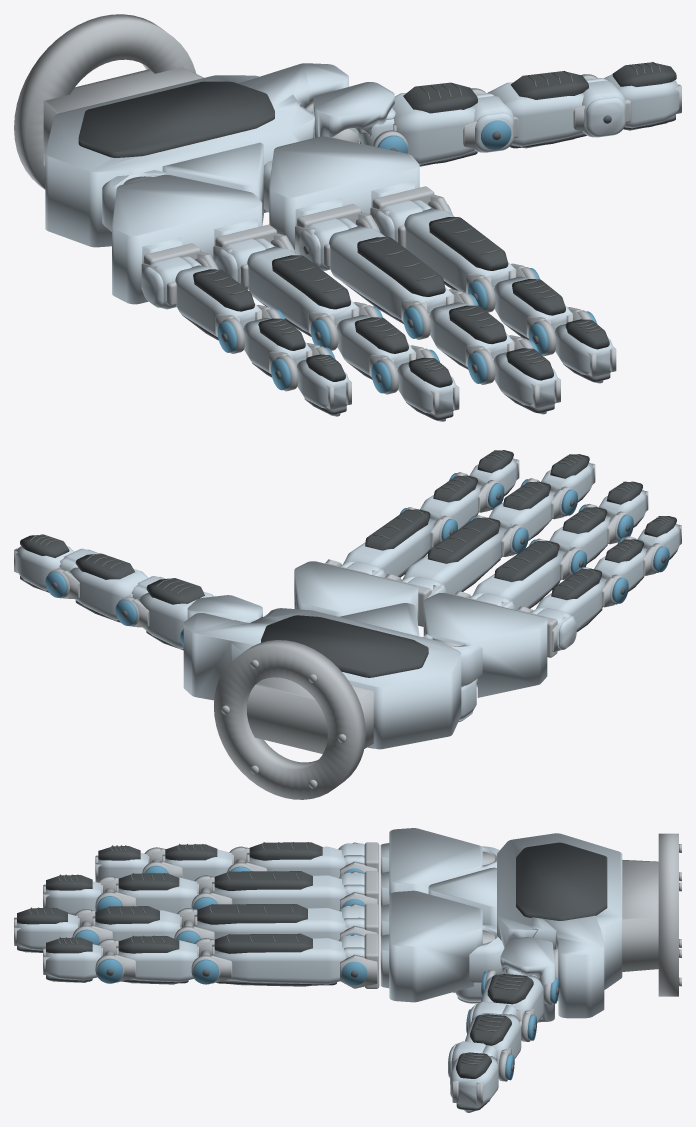
File: lyra10.glb
The picture shows the model from 3 angles, top to bottom: view 1: azimuth 30°, elevation 25°; view 2: azimuth 150°, elevation 25°; view 3: azimuth 270°, elevation 25°; orthographic projection. The views are drawn at different scales.
Visible parts, largest first — view 1: visual__central_palm__0, visual__central_palm__1, visual__palm_ulnar_fan_link__1, visual__central_palm__3, visual__palm_radial_fan_link__1, visual__thumb_proximal__0, visual__thumb_metacarpal__0, visual__middle_proximal__0, visual__thumb_oppose_link__1, visual__ring_proximal__0, visual__index_proximal__0, visual__middle_proximal__4 (+42 smaller); view 2: visual__central_palm__1, visual__central_palm__0, visual__palm_ulnar_fan_link__1, visual__central_palm__3, visual__palm_radial_fan_link__1, visual__middle_proximal__0, visual__thumb_proximal__0, visual__ring_proximal__0, visual__index_proximal__0, visual__thumb_metacarpal__0, visual__middle_proximal__4, visual__index_proximal__4 (+25 smaller); view 3: visual__central_palm__0, visual__palm_radial_fan_link__1, visual__central_palm__1, visual__central_palm__3, visual__palm_ulnar_fan_link__1, visual__index_proximal__0, visual__ring_proximal__0, visual__middle_proximal__0, visual__thumb_oppose_link__1, visual__middle_proximal__4, visual__index_middle__0, visual__index_proximal__4 (+42 smaller).
Part boxes in pixels (left/top/right/bottom): visual__central_palm__0: left=45, top=63, right=348, bottom=247; visual__central_palm__1: left=14, top=14, right=313, bottom=189; visual__palm_ulnar_fan_link__1: left=112, top=174, right=262, bottom=304; visual__central_palm__3: left=78, top=81, right=274, bottom=157; visual__palm_radial_fan_link__1: left=269, top=136, right=419, bottom=250; visual__thumb_proximal__0: left=487, top=78, right=625, bottom=148; visual__thumb_metacarpal__0: left=392, top=93, right=513, bottom=166; visual__middle_proximal__0: left=329, top=226, right=454, bottom=320; visual__thumb_oppose_link__1: left=313, top=82, right=395, bottom=146; visual__ring_proximal__0: left=247, top=246, right=359, bottom=332; visual__index_proximal__0: left=404, top=208, right=516, bottom=292; visual__middle_proximal__4: left=357, top=237, right=445, bottom=296; visual__central_palm__1: left=214, top=640, right=373, bottom=799; visual__central_palm__0: left=183, top=603, right=482, bottom=749; visual__palm_ulnar_fan_link__1: left=423, top=593, right=547, bottom=697; visual__central_palm__3: left=261, top=615, right=428, bottom=677; visual__palm_radial_fan_link__1: left=294, top=561, right=418, bottom=624; visual__middle_proximal__0: left=402, top=527, right=506, bottom=594; visual__thumb_proximal__0: left=59, top=548, right=148, bottom=620; visual__ring_proximal__0: left=472, top=550, right=564, bottom=610; visual__index_proximal__0: left=343, top=518, right=435, bottom=576; visual__thumb_metacarpal__0: left=131, top=576, right=213, bottom=649; visual__middle_proximal__4: left=428, top=517, right=500, bottom=563; visual__index_proximal__4: left=365, top=509, right=430, bottom=550; visual__central_palm__0: left=428, top=833, right=622, bottom=1018; visual__palm_radial_fan_link__1: left=380, top=890, right=482, bottom=1002; visual__central_palm__1: left=453, top=833, right=681, bottom=996; visual__central_palm__3: left=516, top=842, right=607, bottom=920; visual__palm_ulnar_fan_link__1: left=380, top=828, right=482, bottom=906; visual__index_proximal__0: left=214, top=938, right=345, bottom=986; visual__ring_proximal__0: left=214, top=875, right=345, bottom=910; visual__middle_proximal__0: left=197, top=908, right=345, bottom=940; visual__thumb_oppose_link__1: left=500, top=937, right=554, bottom=1022; visual__middle_proximal__4: left=197, top=904, right=307, bottom=924; visual__index_middle__0: left=118, top=940, right=197, bottom=984; visual__index_proximal__4: left=214, top=933, right=312, bottom=953.
Size of the model in its own units: 0.1944 by 0.056 by 0.2295.
